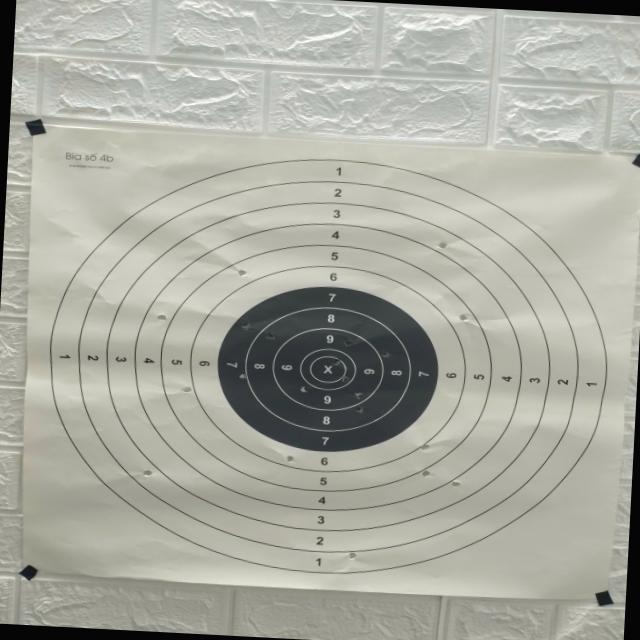bullet: (235, 266, 246, 277), (354, 392, 364, 400), (438, 241, 448, 249), (332, 360, 343, 367), (241, 323, 252, 330), (355, 405, 364, 413), (421, 444, 430, 452), (459, 314, 469, 321), (265, 333, 275, 340), (143, 470, 153, 477), (451, 480, 461, 487), (340, 376, 349, 383), (157, 314, 166, 321), (380, 352, 390, 358), (181, 387, 191, 393), (422, 470, 430, 477), (349, 553, 357, 560), (300, 386, 306, 393), (287, 456, 294, 462), (239, 374, 247, 379), (345, 340, 350, 345)
target: (24, 128, 640, 599)
